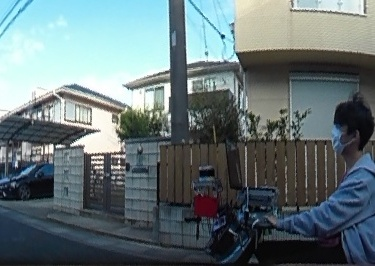person: (284, 90, 375, 266)
